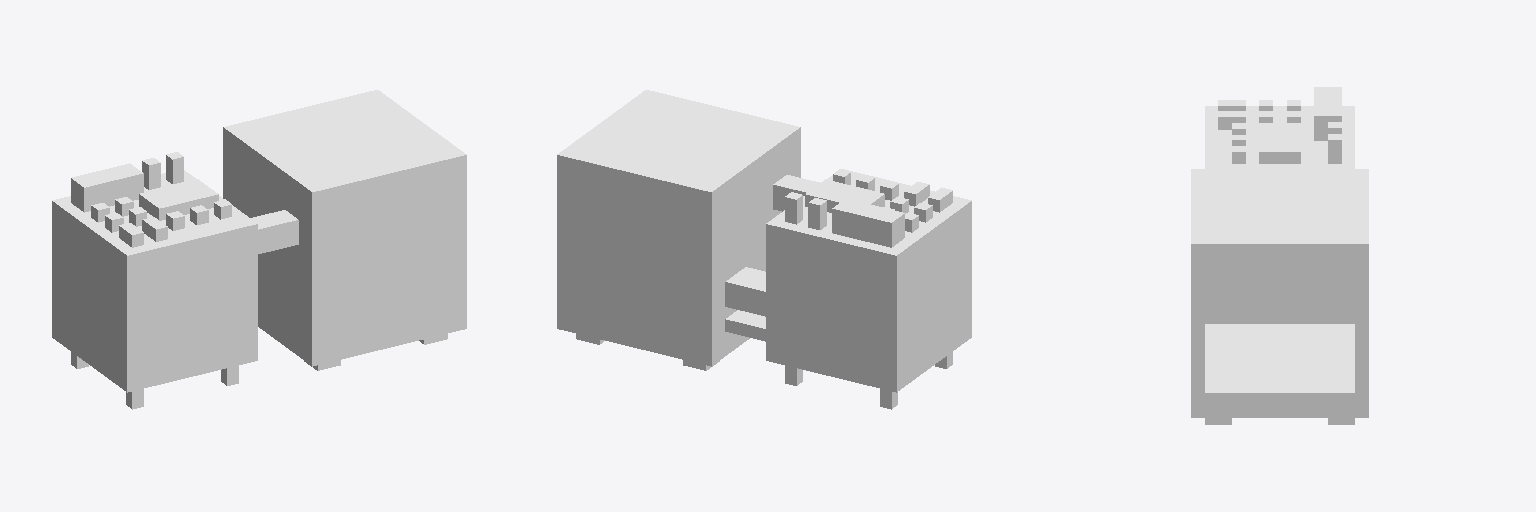
Rendered from moneymachine.obj.
The picture shows the model from 3 angles: view 1: azimuth 30°, elevation 25°; view 2: azimuth 150°, elevation 25°; view 3: azimuth 270°, elevation 25°; orthographic projection.
Bounding box in the file's own units: 28 × 15 × 13.